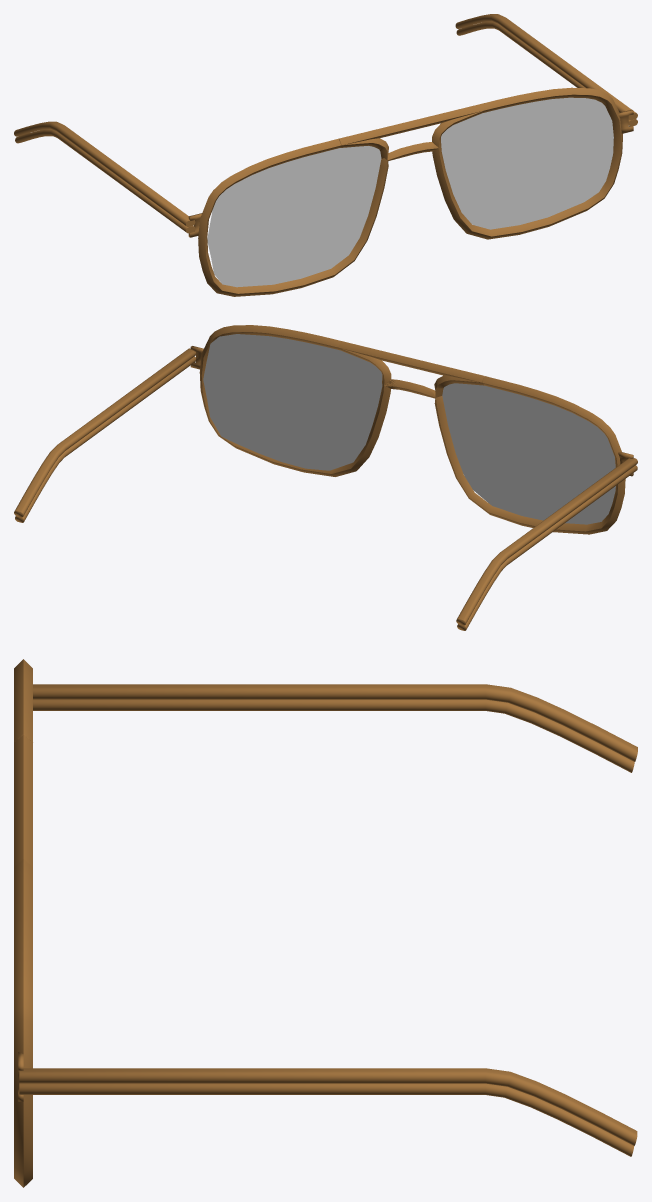
Rendered from eyeglasses05.glb.
3 views of the same model, one above another, from view 1: azimuth 30°, elevation 25°; view 2: azimuth 150°, elevation 25°; view 3: azimuth 270°, elevation 25° (orthographic). The views are drawn at different scales.
Visible parts, largest first — view 1: Plane.005, Plane.004, Plane, Circle, Circle.001; view 2: Plane.006, Plane.003, Plane, Circle.001, Circle; view 3: Circle.001, Circle, Plane.
Boxes of the visible parts, bbox=[...] form: Plane.005: bbox=[207, 146, 381, 287]; Plane.004: bbox=[441, 97, 613, 229]; Plane: bbox=[198, 87, 622, 296]; Circle: bbox=[14, 121, 195, 233]; Circle.001: bbox=[455, 14, 637, 126]; Plane.006: bbox=[203, 334, 382, 470]; Plane.003: bbox=[442, 383, 615, 524]; Plane: bbox=[199, 325, 625, 534]; Circle.001: bbox=[14, 348, 195, 522]; Circle: bbox=[456, 458, 637, 630]; Circle.001: bbox=[19, 1068, 637, 1156]; Circle: bbox=[33, 684, 637, 772]; Plane: bbox=[14, 659, 32, 1187].
Bounding box in the file's own units: 2.9 × 0.8617 × 1.95.
